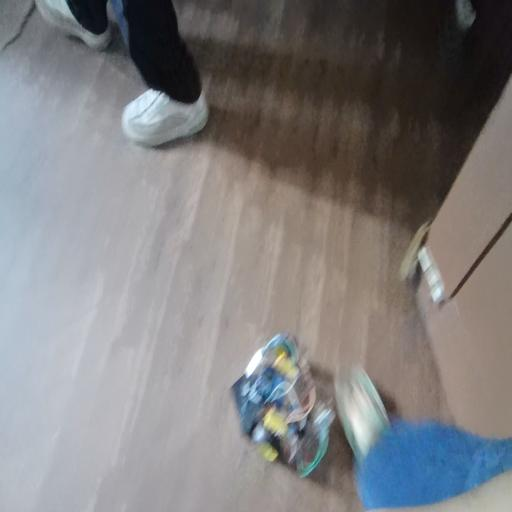car: (258, 328, 304, 469)
